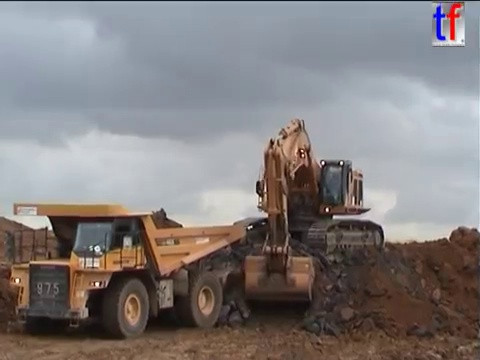excavator: (230, 115, 388, 306)
truck: (2, 199, 249, 341)
